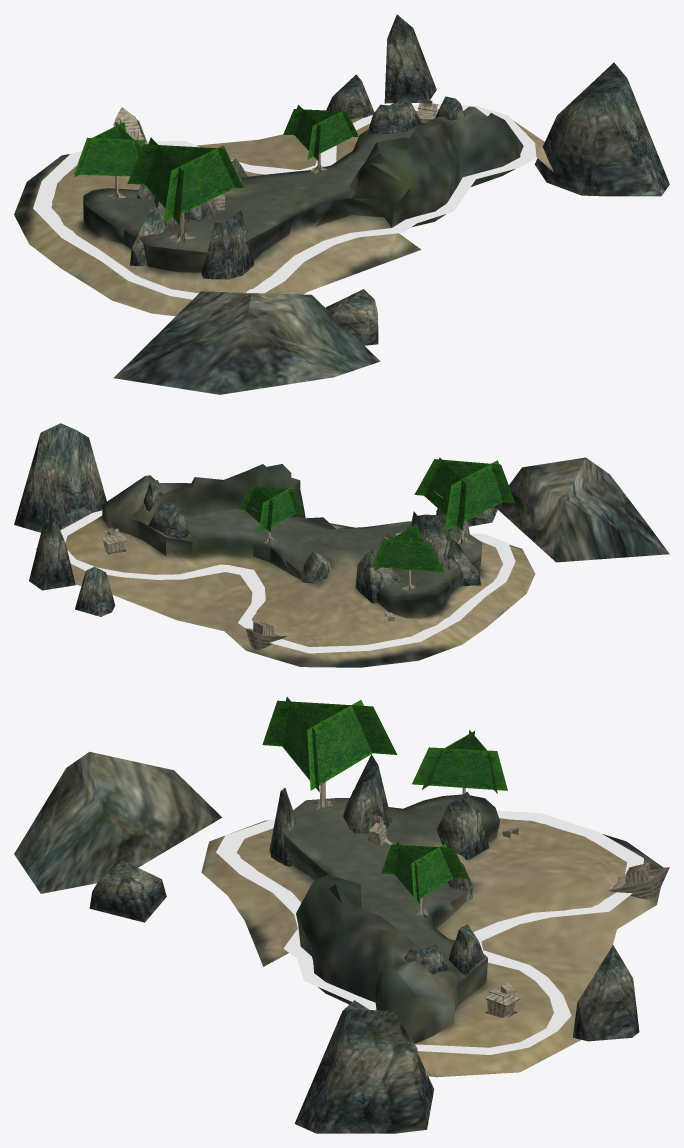
The model's file is pir_m_are_isl_pvpSpanish_dock_lod.fbx.
The picture shows the model from 3 angles, top to bottom: view 1: azimuth 30°, elevation 25°; view 2: azimuth 150°, elevation 25°; view 3: azimuth 270°, elevation 25°; orthographic projection. The views are drawn at different scales.
Visible parts, largest first — view 1: terrain, mound_light_med_Proxy_lod_superlow1, mound_light_lrg_Proxy_lod_superlow1, mesh_tide3, mound_light_med2_2Proxy_lod_superlow1, canopy_0.001, canopy, mound_light_lrg_1Proxy_lod_superlow1, mound_light_med2_3Proxy_lod_superlow1, canopy_2.001, canopy_1.001, mound_light_lrg_2Proxy_lod_superlow1 (+6 smaller); view 2: terrain, mound_light_med_Proxy_lod_superlow1, mound_light_lrg_Proxy_lod_superlow1, mesh_tide3, mound_light_med2_2Proxy_lod_superlow1, canopy, canopy_1.001, mound_light_lrg_5Proxy_lod_superlow1, canopy_2.001, mound_light_med2_Proxy_lod_superlow1, canopy_0.001, mound_light_lrg_4Proxy_lod_superlow1 (+8 smaller); view 3: terrain, mound_light_med_Proxy_lod_superlow1, mound_light_lrg_Proxy_lod_superlow1, mesh_tide3, mound_light_med2_2Proxy_lod_superlow1, canopy, canopy_2.001, mound_light_med2_3Proxy_lod_superlow1, canopy_1.001, mound_light_med2_Proxy_lod_superlow1, mound_light_lrg_4Proxy_lod_superlow1, canopy_0.001 (+7 smaller).
Part boxes in pixels (<box>): terrain: <box>14,106,553,316</box>; mound_light_med_Proxy_lod_superlow1: <box>113,291,380,394</box>; mound_light_lrg_Proxy_lod_superlow1: <box>534,62,669,196</box>; mesh_tide3: <box>33,104,536,299</box>; mound_light_med2_2Proxy_lod_superlow1: <box>384,14,436,103</box>; canopy_0.001: <box>163,145,242,222</box>; canopy: <box>74,121,145,177</box>; mound_light_lrg_1Proxy_lod_superlow1: <box>201,210,253,279</box>; mound_light_med2_3Proxy_lod_superlow1: <box>326,289,378,345</box>; canopy_2.001: <box>127,144,242,187</box>; canopy_1.001: <box>144,137,183,224</box>; mound_light_lrg_2Proxy_lod_superlow1: <box>368,97,421,134</box>; terrain: <box>36,464,535,667</box>; mound_light_med_Proxy_lod_superlow1: <box>495,457,669,562</box>; mound_light_lrg_Proxy_lod_superlow1: <box>14,423,106,532</box>; mesh_tide3: <box>60,510,515,653</box>; mound_light_med2_2Proxy_lod_superlow1: <box>29,517,75,590</box>; canopy: <box>372,524,444,573</box>; canopy_1.001: <box>444,460,502,531</box>; mound_light_lrg_5Proxy_lod_superlow1: <box>75,566,115,616</box>; canopy_2.001: <box>424,457,466,530</box>; mound_light_med2_Proxy_lod_superlow1: <box>355,547,401,603</box>; canopy_0.001: <box>414,459,515,503</box>; mound_light_lrg_4Proxy_lod_superlow1: <box>410,511,451,566</box>; terrain: <box>201,794,663,1077</box>; mound_light_med_Proxy_lod_superlow1: <box>14,751,221,893</box>; mound_light_lrg_Proxy_lod_superlow1: <box>294,1000,434,1133</box>; mesh_tide3: <box>216,810,643,1054</box>; mound_light_med2_2Proxy_lod_superlow1: <box>572,945,639,1041</box>; canopy: <box>412,730,507,793</box>; canopy_2.001: <box>307,700,372,790</box>; mound_light_med2_3Proxy_lod_superlow1: <box>89,859,166,922</box>; canopy_1.001: <box>262,700,397,754</box>; mound_light_med2_Proxy_lod_superlow1: <box>436,792,488,859</box>; mound_light_lrg_4Proxy_lod_superlow1: <box>343,754,391,833</box>; canopy_0.001: <box>282,697,319,792</box>.
Size of the model in its own units: 148235 by 32809 by 119558.
Materials: 4 (4 with a texture image).
